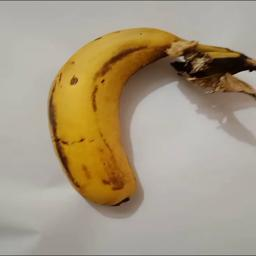Banana Semifresh: (45, 21, 256, 207)
